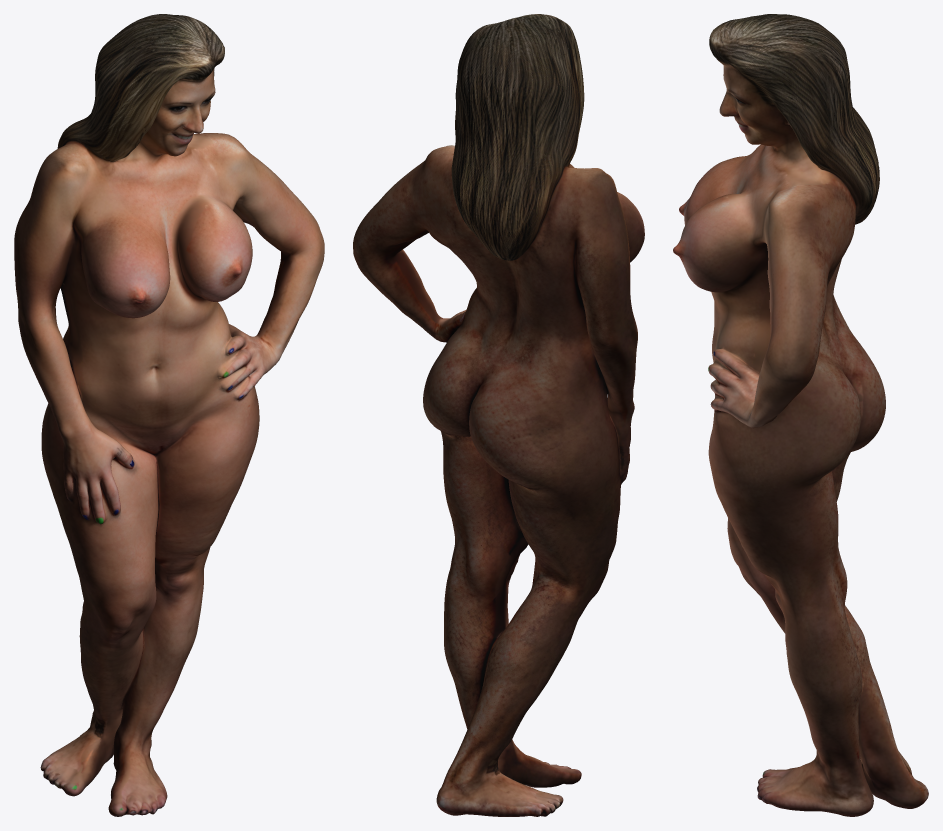
Rendered from new_female_model.glb.
3 views of the same model, side by side, from view 1: azimuth 30°, elevation 25°; view 2: azimuth 150°, elevation 25°; view 3: azimuth 270°, elevation 25° (orthographic). The views are drawn at different scales.
Parts seen in each view (by area): view 1: tripo_node_fd3de652; view 2: tripo_node_fd3de652; view 3: tripo_node_fd3de652.
Boxes of the visible parts, x1=… form: tripo_node_fd3de652: x1=14, y1=14, x2=324, y2=816; tripo_node_fd3de652: x1=353, y1=14, x2=644, y2=816; tripo_node_fd3de652: x1=673, y1=14, x2=928, y2=816.
Size of the model in its own units: 0.3835 by 0.9795 by 0.2861.
Materials: 1 (1 with a texture image).
